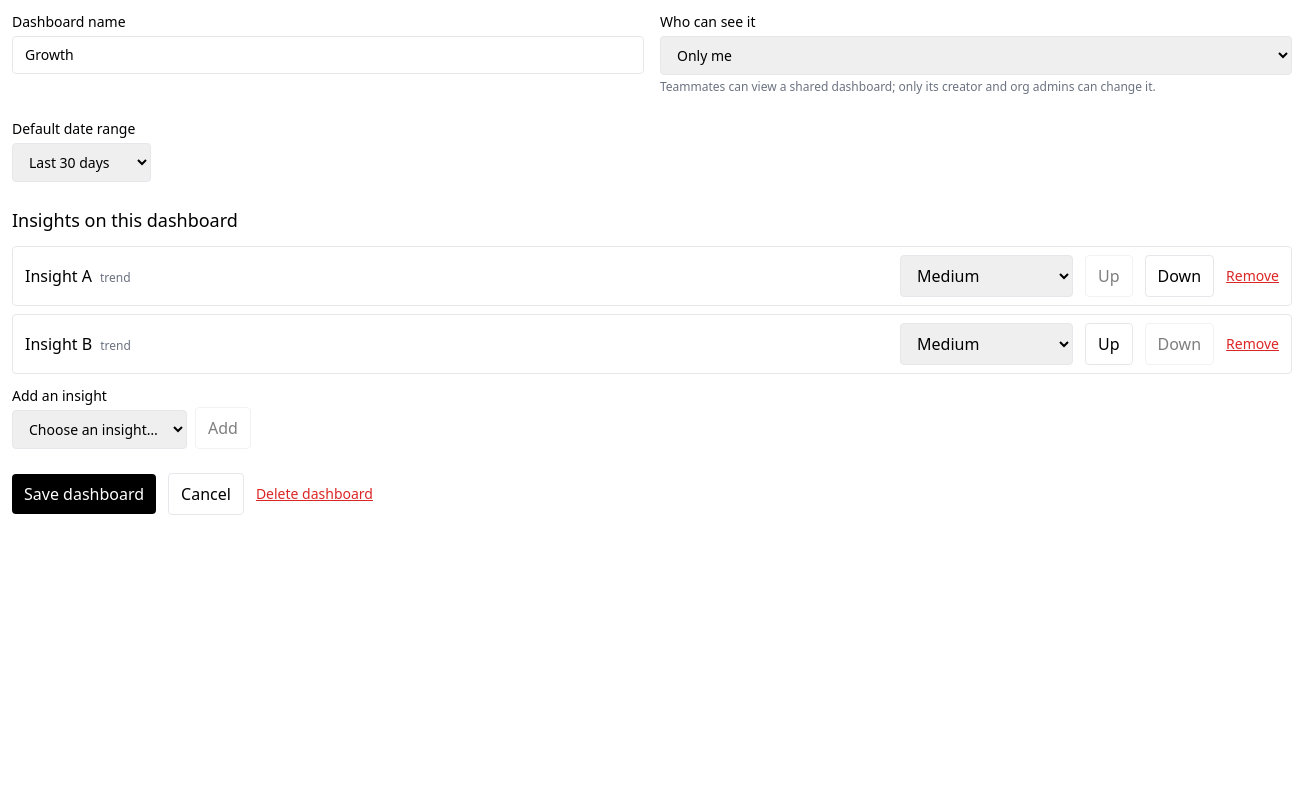
Scenario: DashboardEditor › a blank name is refused with a reason
Clear the field labelled "Dashboard name" at (328, 55), box [12,36,644,74]
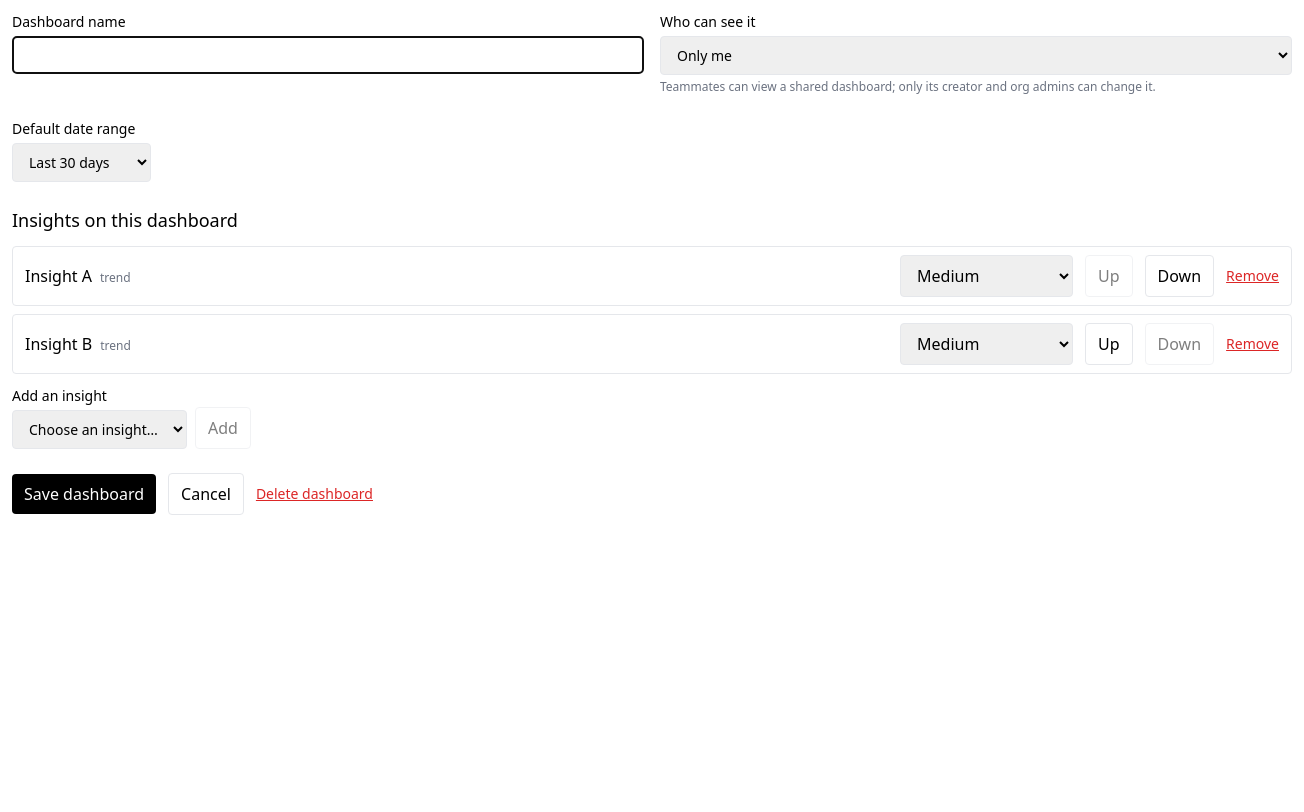
Click the button "Save dashboard" at (84, 494), box [12,474,156,514]
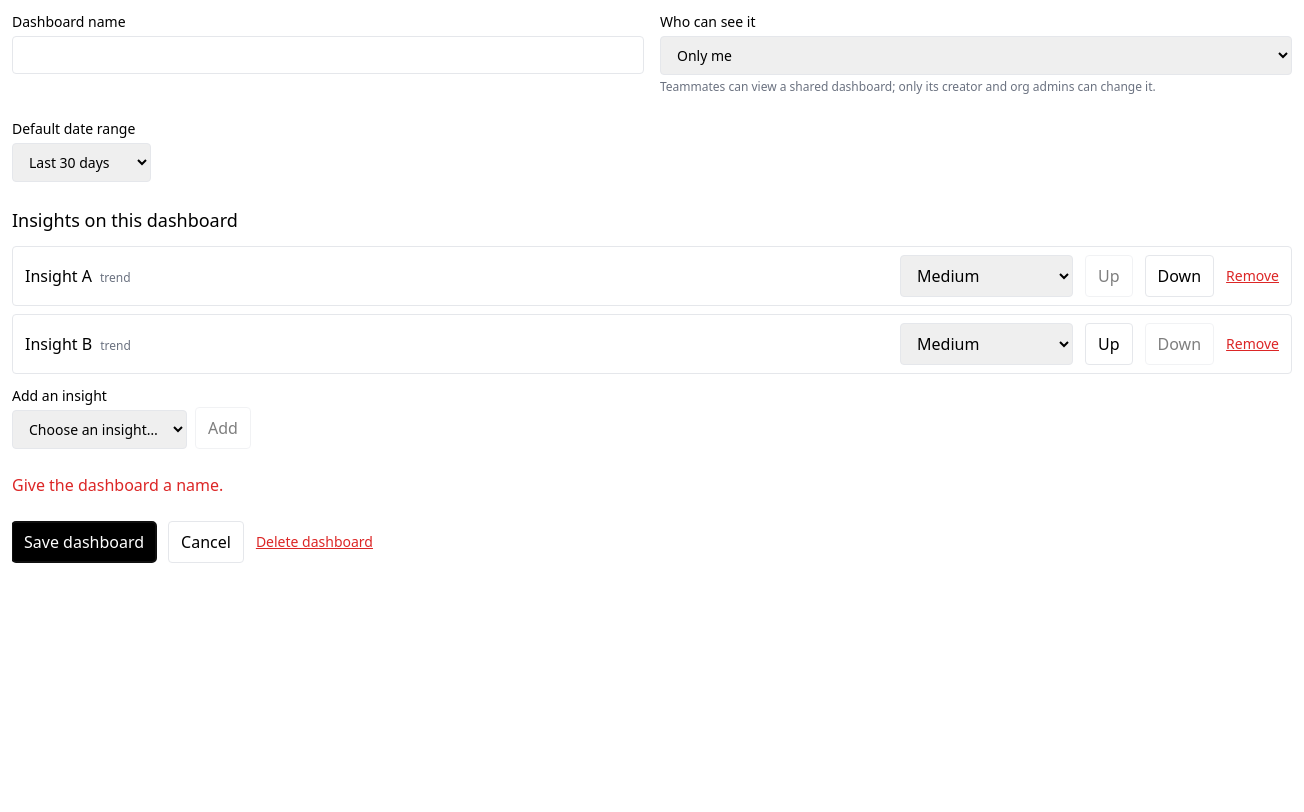
Check: the text "Give the dashboard a name." is shown, box [12,474,223,496]
